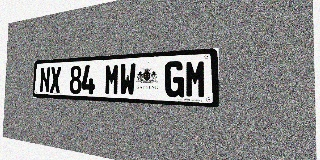4: (82, 65, 95, 94)
8: (69, 65, 82, 94)
G: (164, 61, 184, 98)
M: (185, 60, 207, 98), (104, 64, 120, 95)
N: (39, 67, 50, 93)
W: (120, 63, 136, 96)
X: (50, 66, 61, 93)
